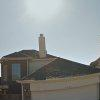Chimney: (32, 23, 52, 65)
